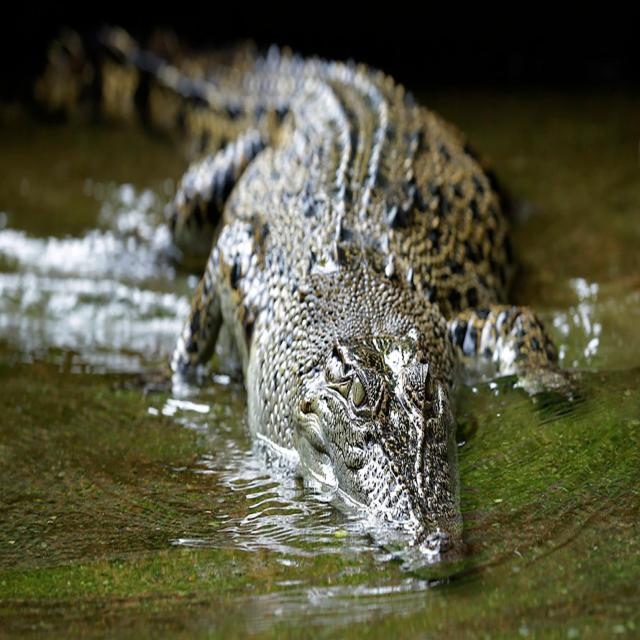crocodile: (25, 3, 582, 614)
